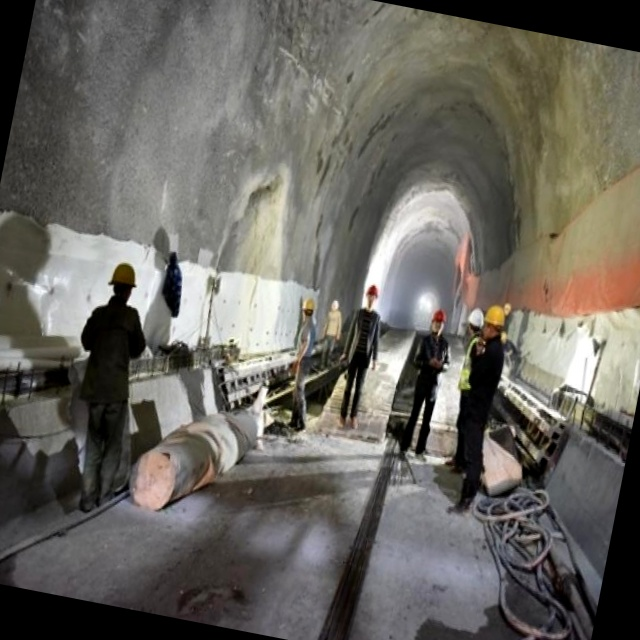Con_Casco: (105, 261, 141, 303), (481, 304, 509, 339)
Sin_Chaleco: (79, 300, 140, 390), (347, 305, 382, 364)
